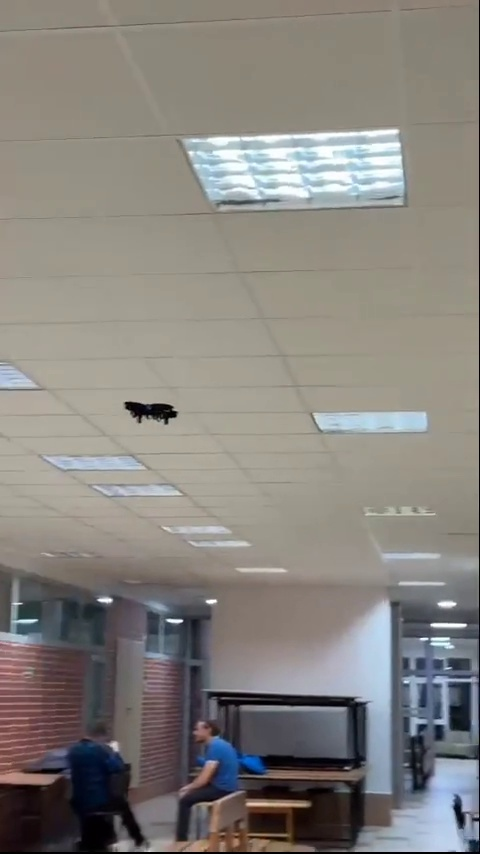drone: (116, 398, 177, 425)
no vest: (66, 717, 152, 845), (179, 719, 239, 815)
